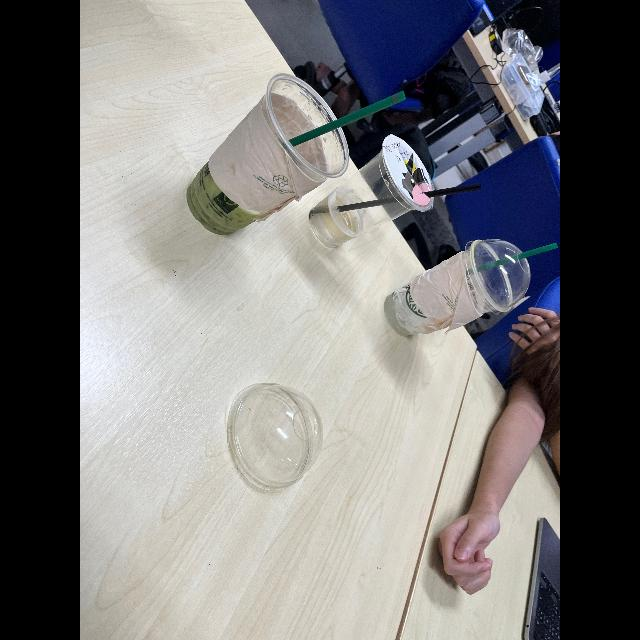plastic_cup: (175, 74, 348, 228), (298, 130, 437, 250), (379, 230, 513, 338)
plastic_cup_lid: (210, 377, 330, 503), (459, 240, 535, 308)
straw: (278, 88, 402, 148), (323, 178, 475, 212), (476, 243, 560, 273)
